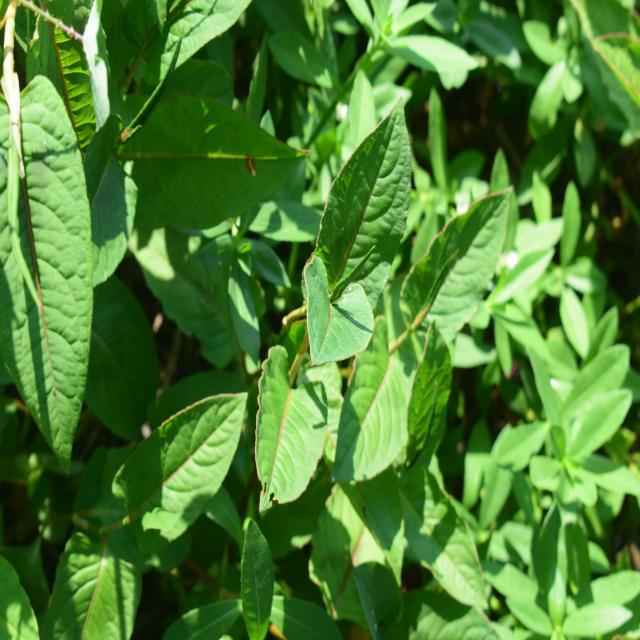Chinese_knotweed: (253, 113, 484, 515)
